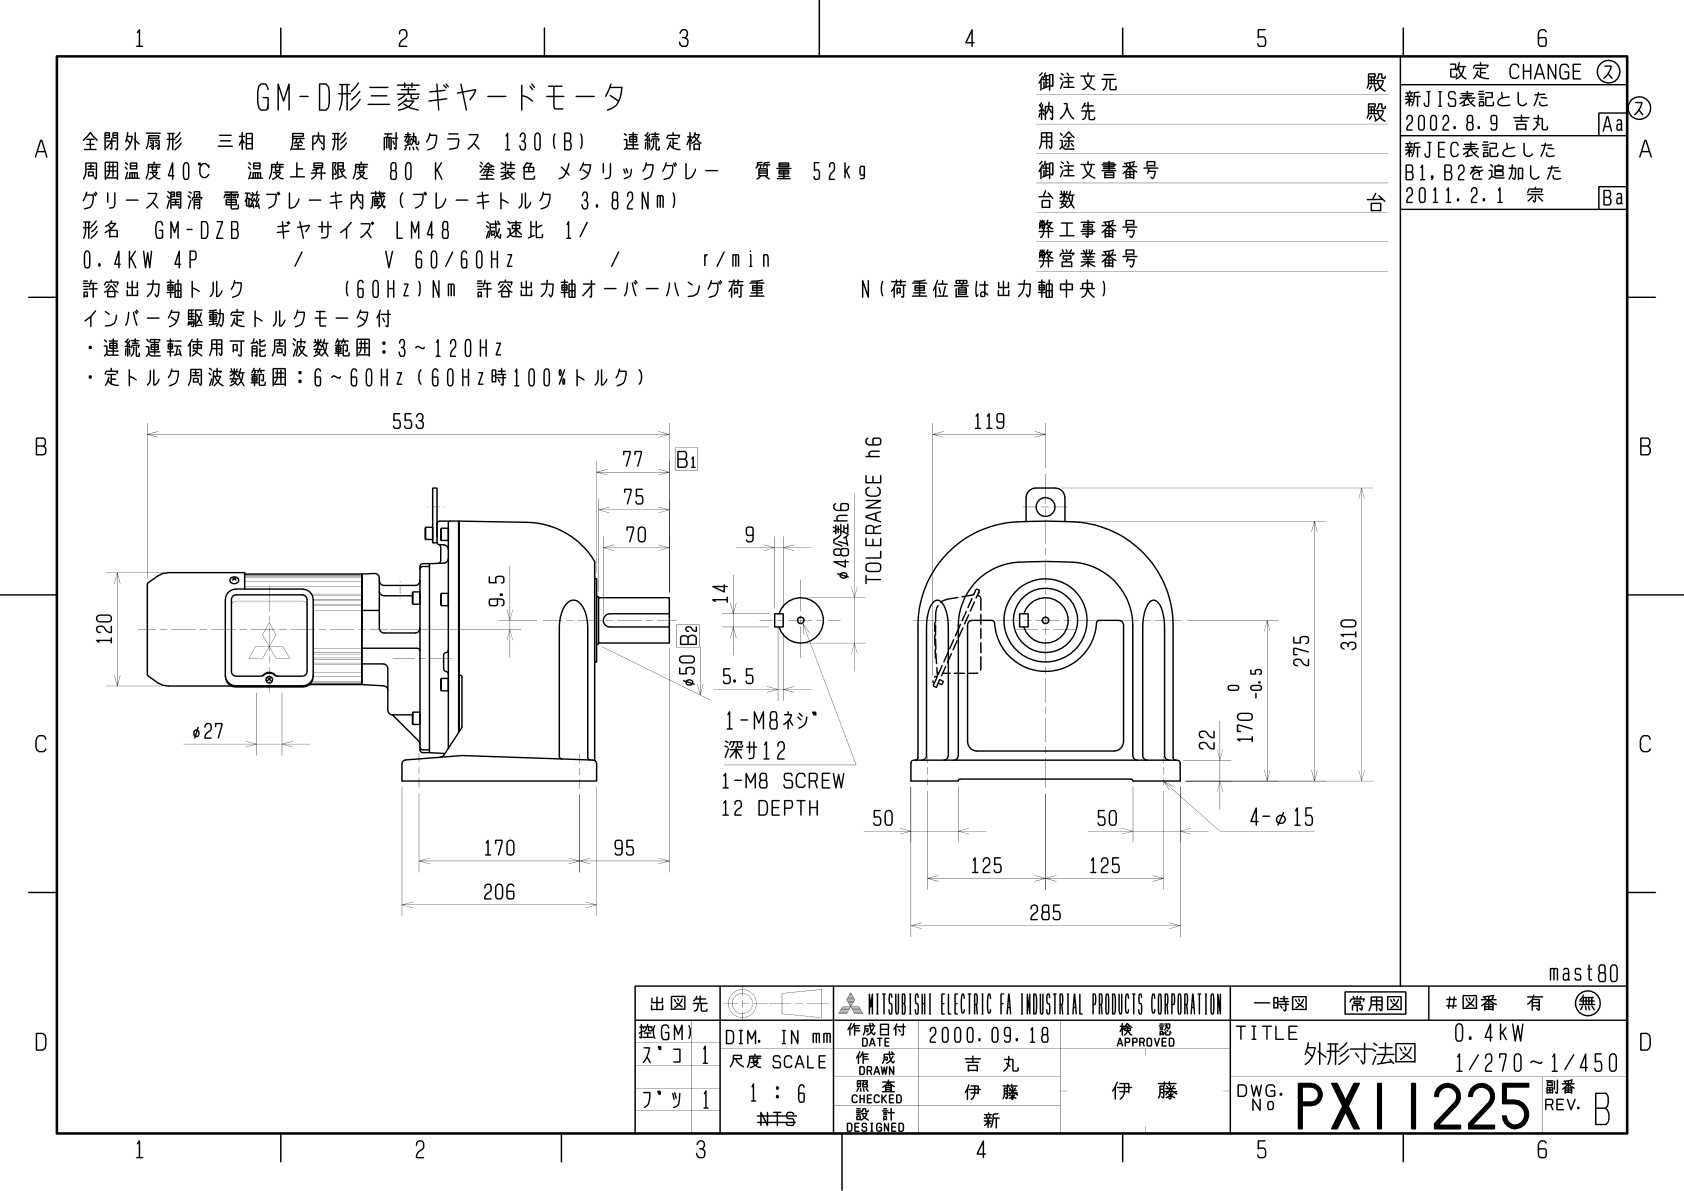GM_D_インバータ屋内_三相_脚: (77, 394, 1395, 965)
